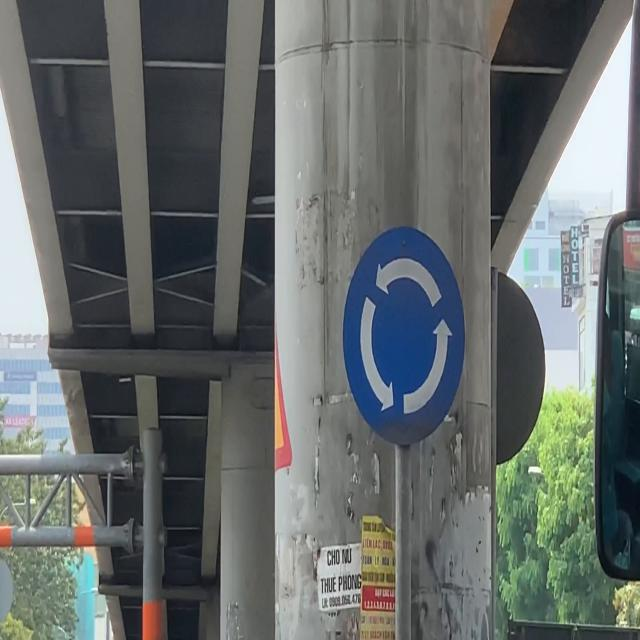Vong xuyen: (340, 212, 466, 454)
